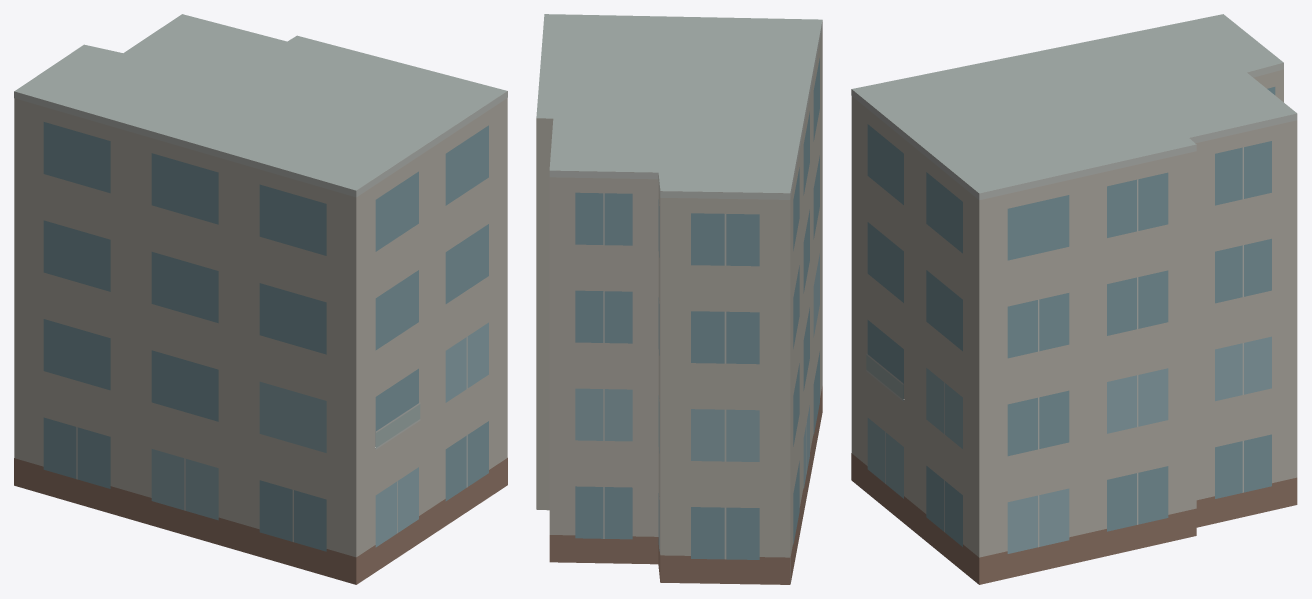
File: survey-upis-32738538.glb
3 renders of one model, left to right at view 1: azimuth 30°, elevation 25°; view 2: azimuth 150°, elevation 25°; view 3: azimuth 270°, elevation 25°, orthographic.
Visible parts, largest first — view 1: survey-upis-32738538.tmp; view 2: survey-upis-32738538.tmp; view 3: survey-upis-32738538.tmp.
Boxes of the visible parts, x1,y1,x2,y2 form: survey-upis-32738538.tmp: [14, 14, 507, 584]; survey-upis-32738538.tmp: [536, 14, 822, 584]; survey-upis-32738538.tmp: [851, 14, 1297, 584].
Bounding box in the file's own units: 13.88 × 14.1 × 14.57.
